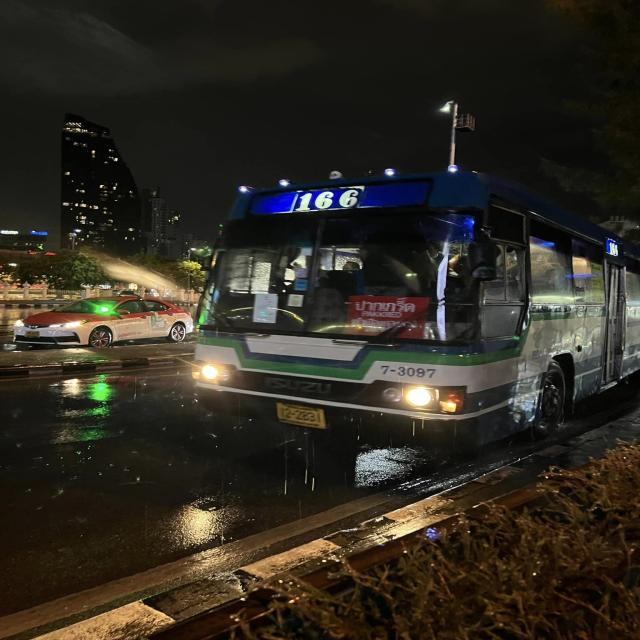BMTA-bus: (186, 158, 640, 454)
Bus-Line-Number: (290, 183, 362, 215)
Destination-Sign-Extra-Bus: (348, 296, 426, 339)
